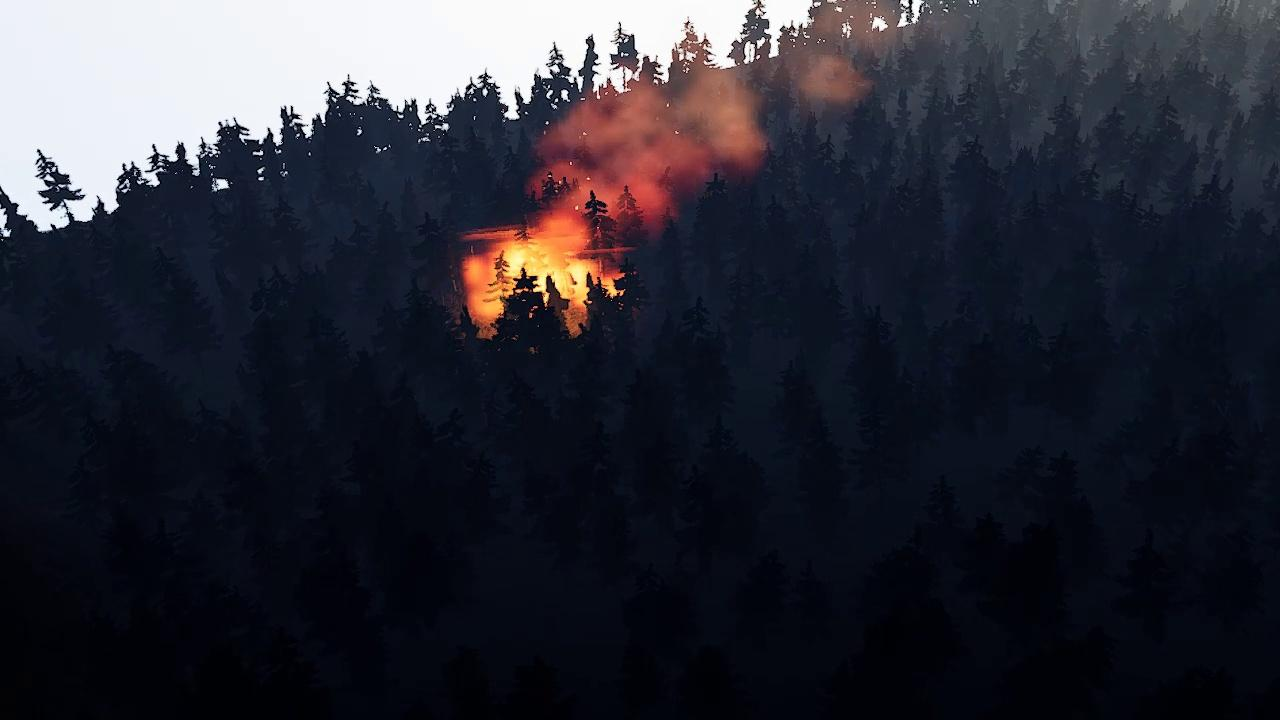fire: (457, 233, 622, 340)
smoke: (527, 0, 900, 245)
